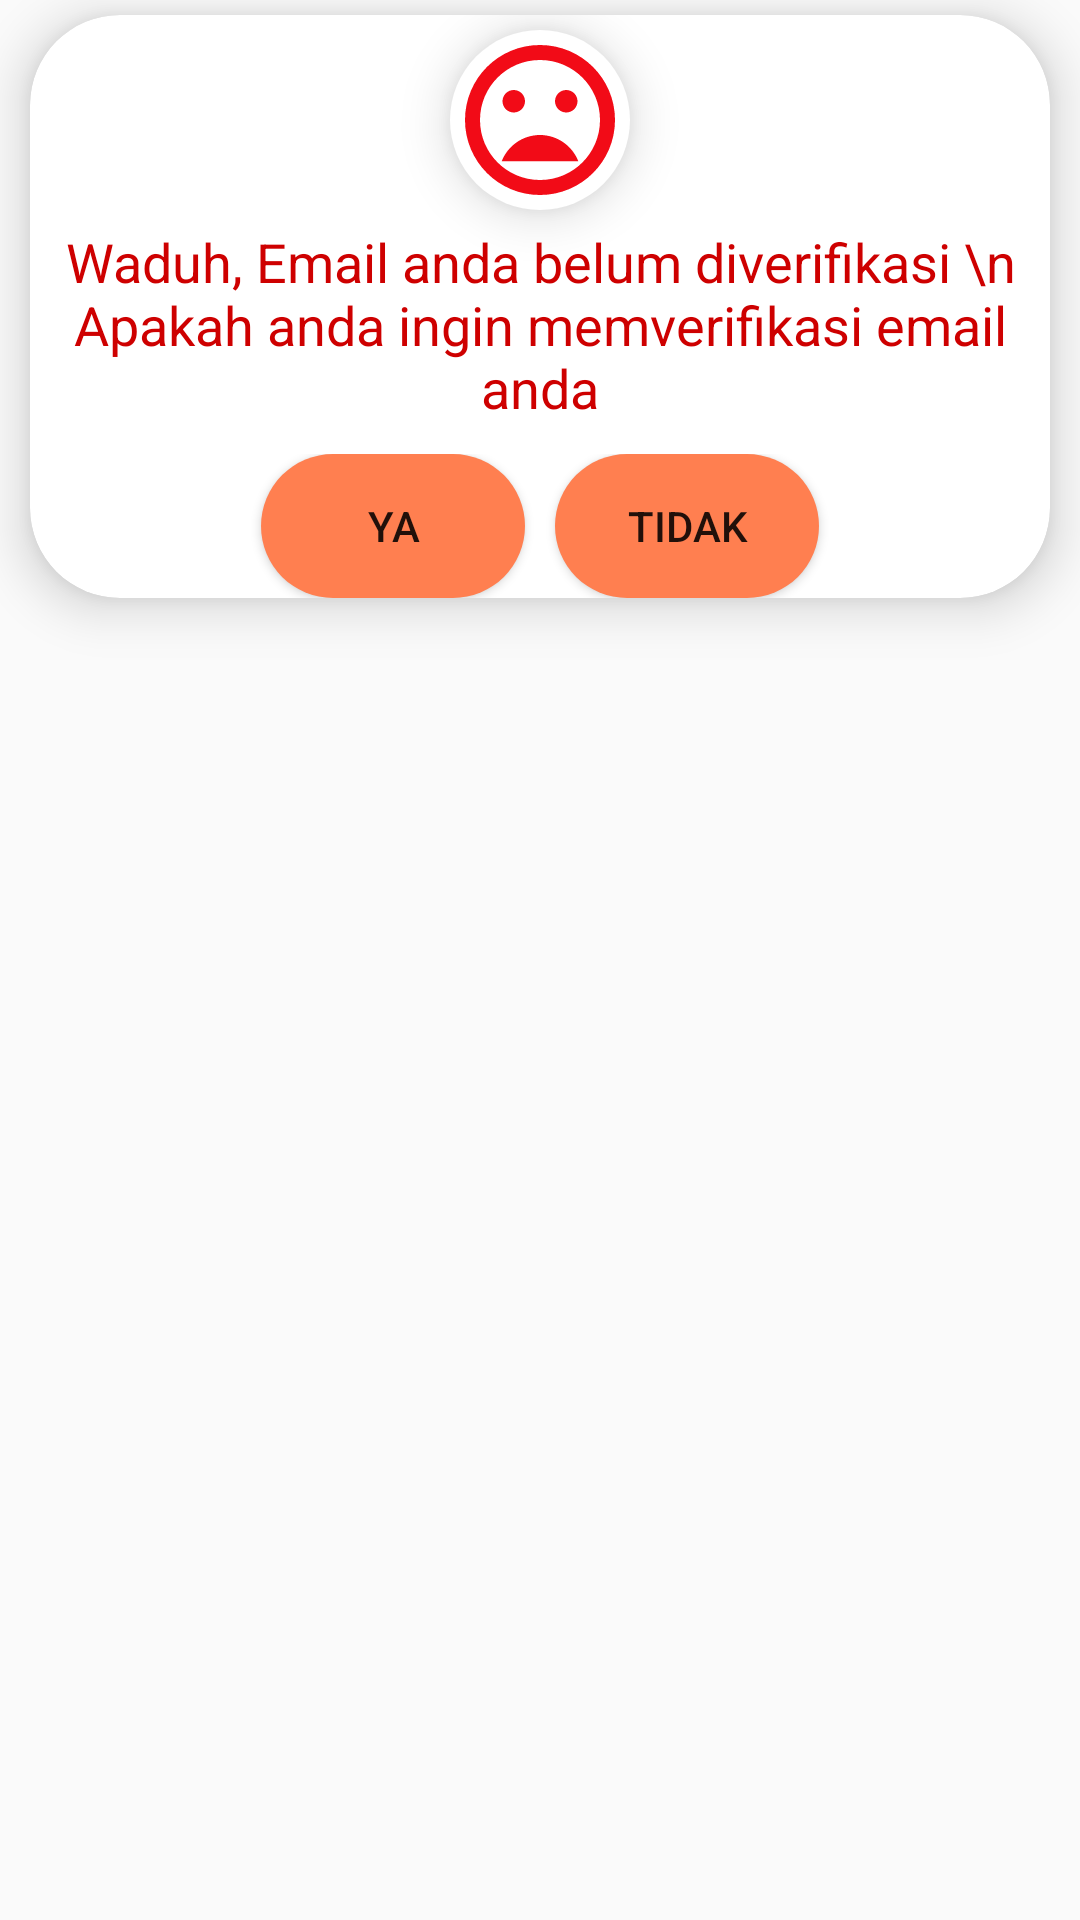

Icon click points for this 1080w x 1920h phone screenshot, format point (x, y):
mood bad: point (540, 120)
